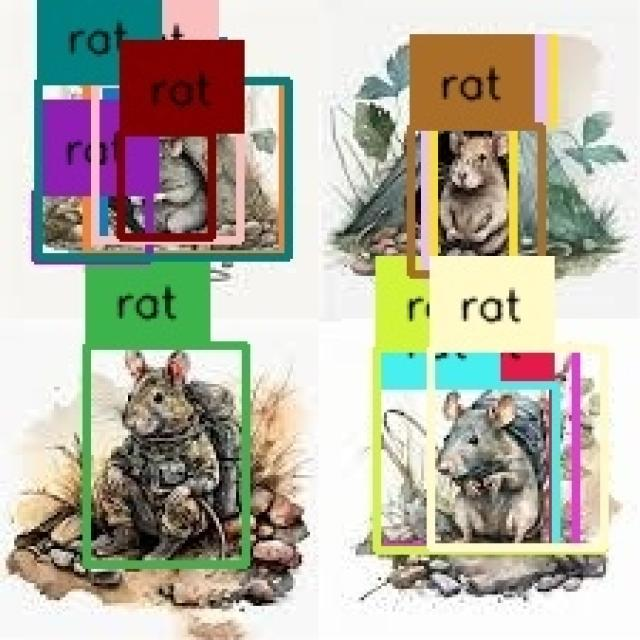rat: (377, 348, 604, 550), (38, 82, 289, 259), (378, 348, 578, 548), (88, 346, 248, 564), (431, 348, 604, 548), (87, 81, 283, 255), (378, 386, 558, 548), (94, 84, 239, 240), (432, 386, 555, 548), (411, 126, 542, 274), (425, 126, 542, 278), (102, 131, 214, 239), (435, 128, 515, 262), (121, 131, 212, 239), (37, 190, 151, 259)
